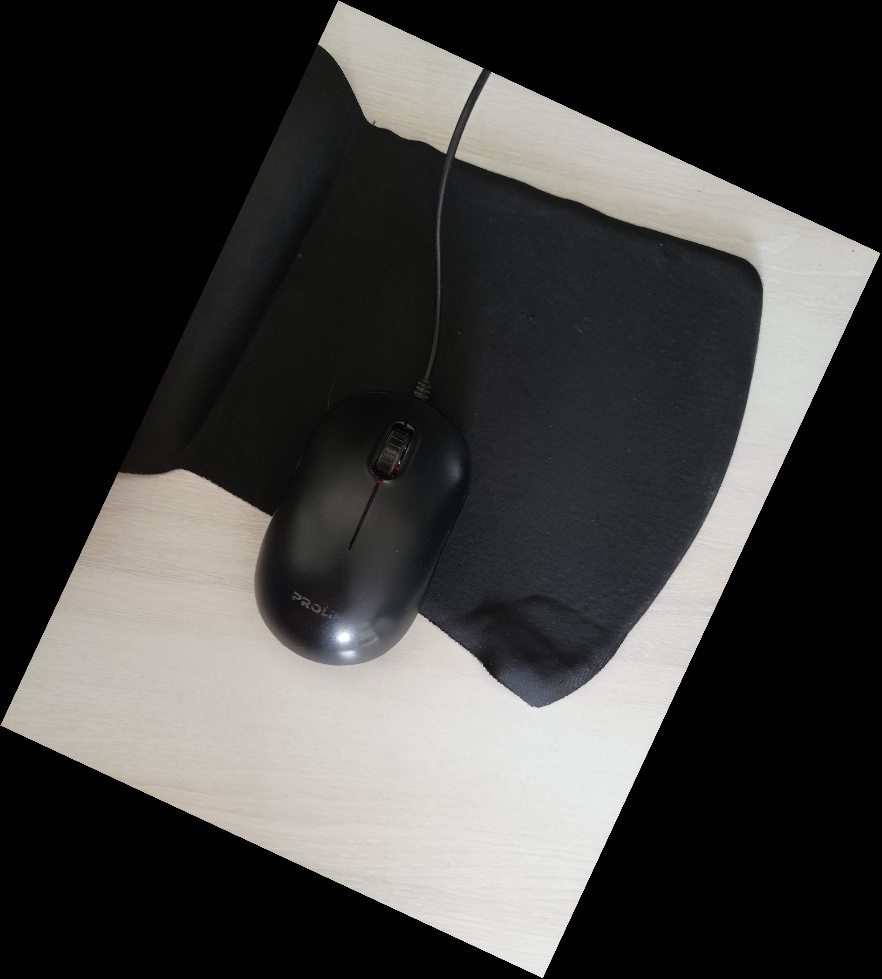mouse: (248, 378, 479, 669)
